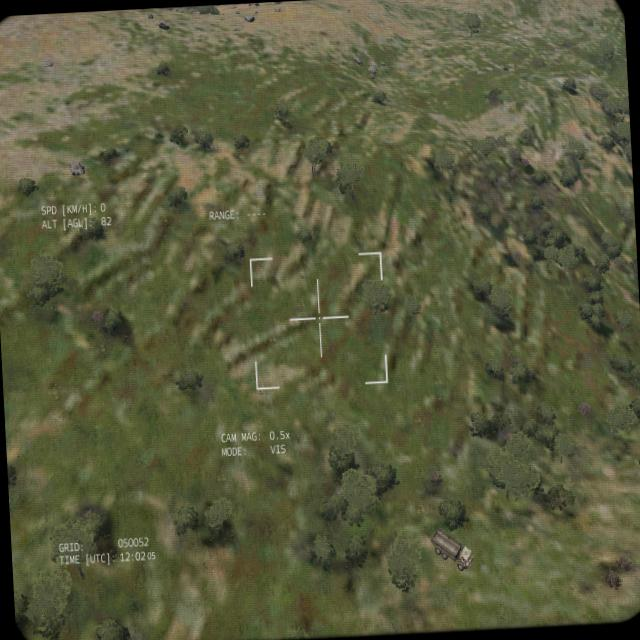truck: (428, 526, 474, 573)
